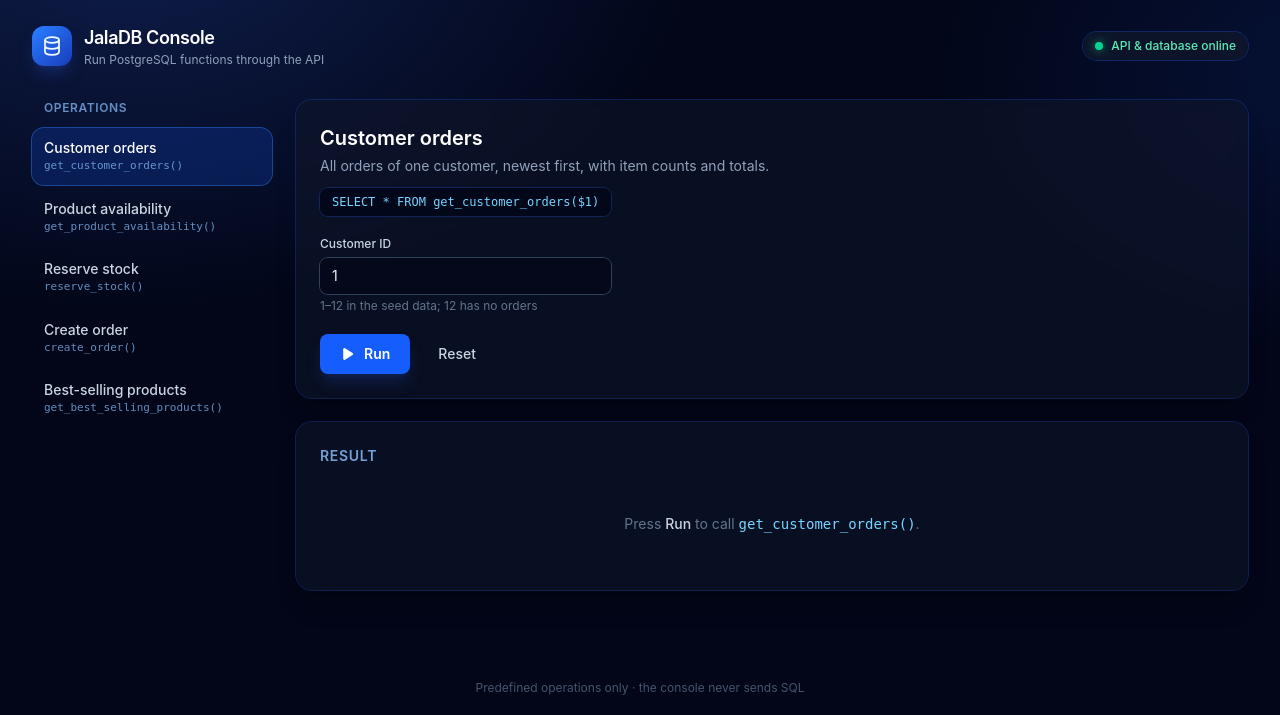
Test: App › keeps each operation’s result when switching between them
Click the button "Run" at x=365, y=354, box [320,334,410,374]
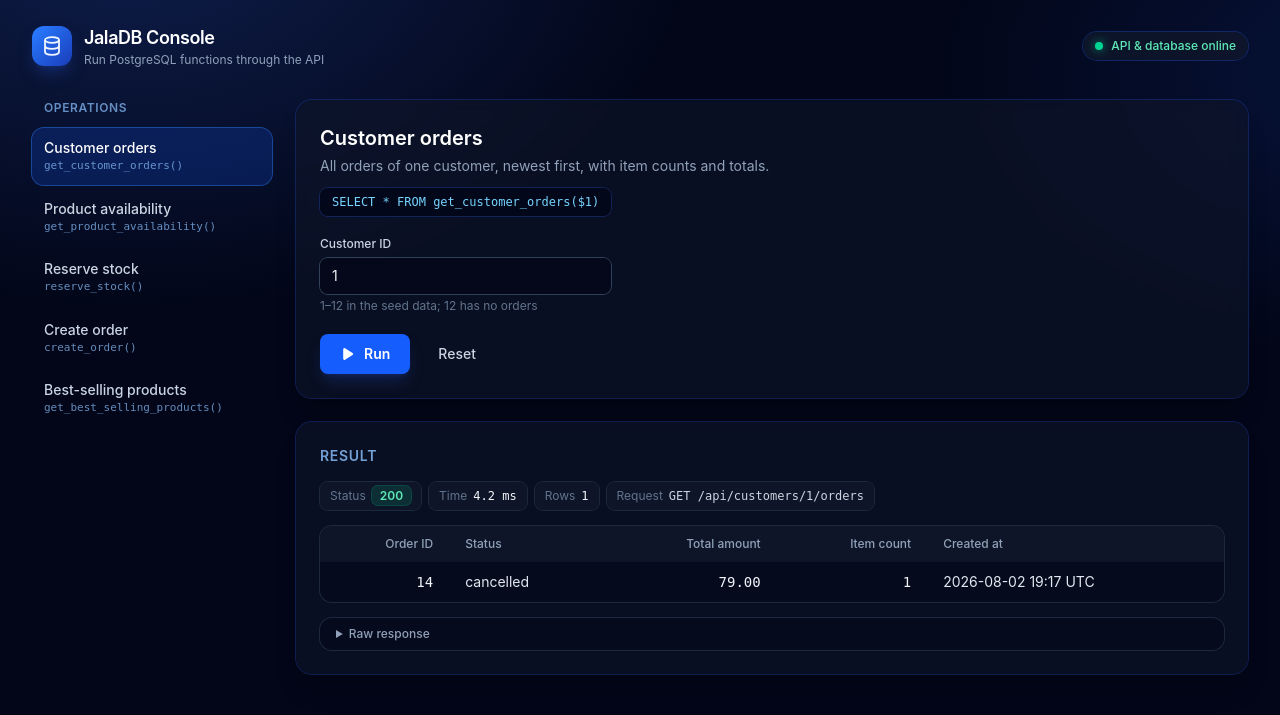
Check: the table is shown, box [320,526,1224,602]
Click the button "Product availability get_product_availability()" at x=152, y=217, box [32,188,272,245]
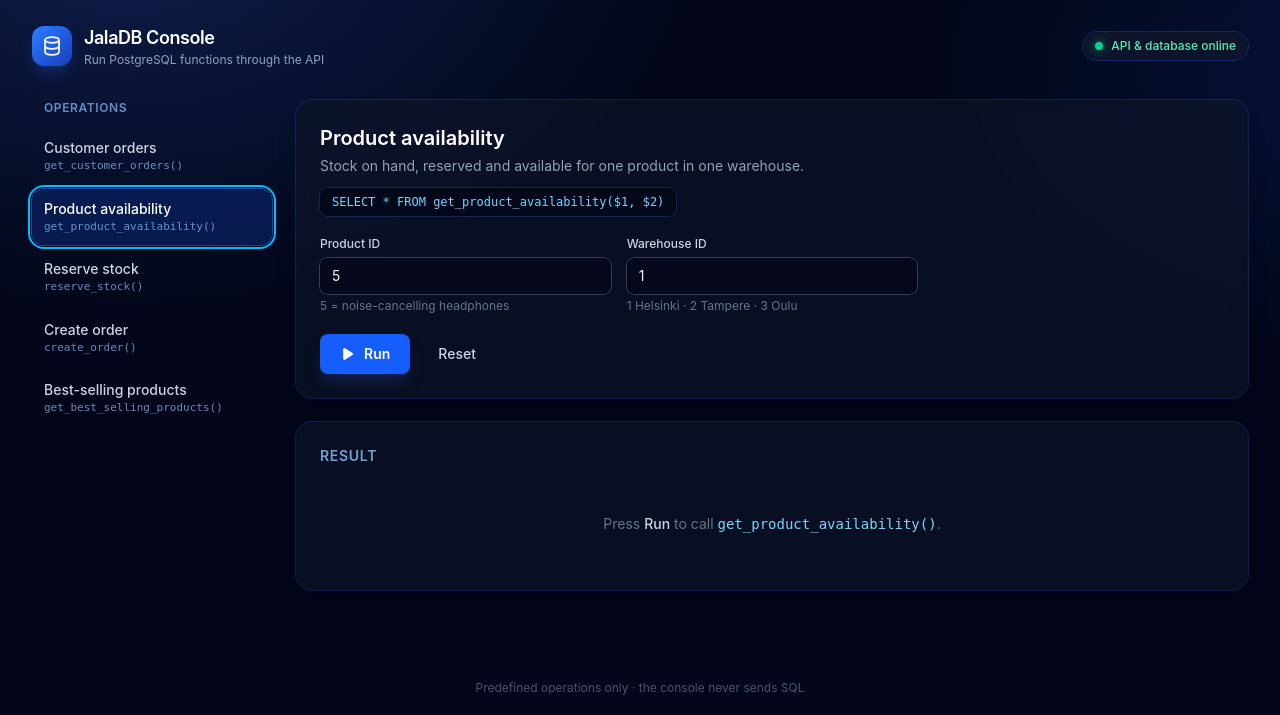
Check: the table is gone
Click the button "Customer orders get_customer_orders()" at x=152, y=156, box [32,128,272,184]
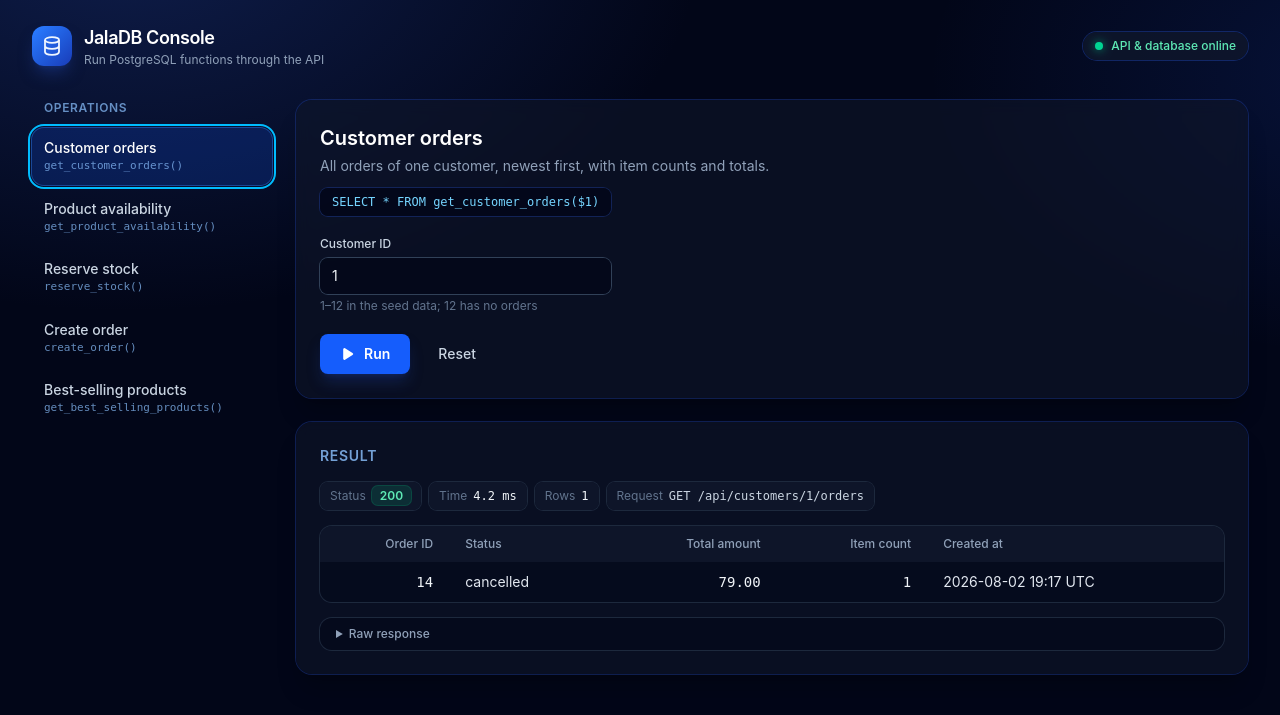
Check: the table is shown, box [320,526,1224,602]
